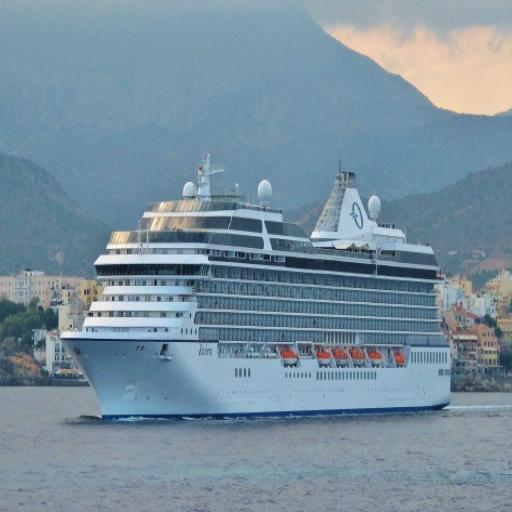cruises: (55, 146, 456, 428)
